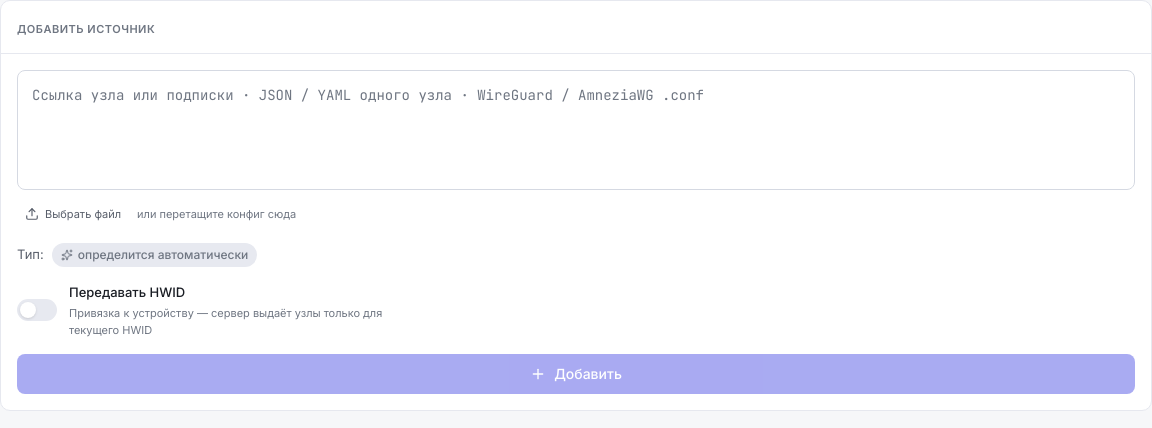
SourceForm › shows the type badge when a vless value is entered
This screenshot has width=1152, height=428.
Replace the text in the text box named "Ссылка источника" with "vless://abc" at coordinates (576, 130), box 17,70 -> 1135,190
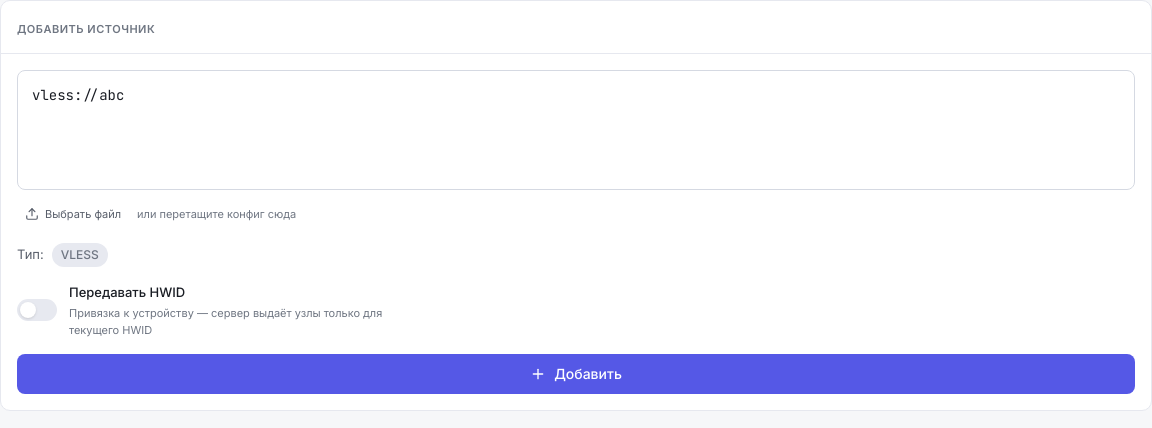
Check: the text "VLESS" is shown, box 52,242 -> 108,266
